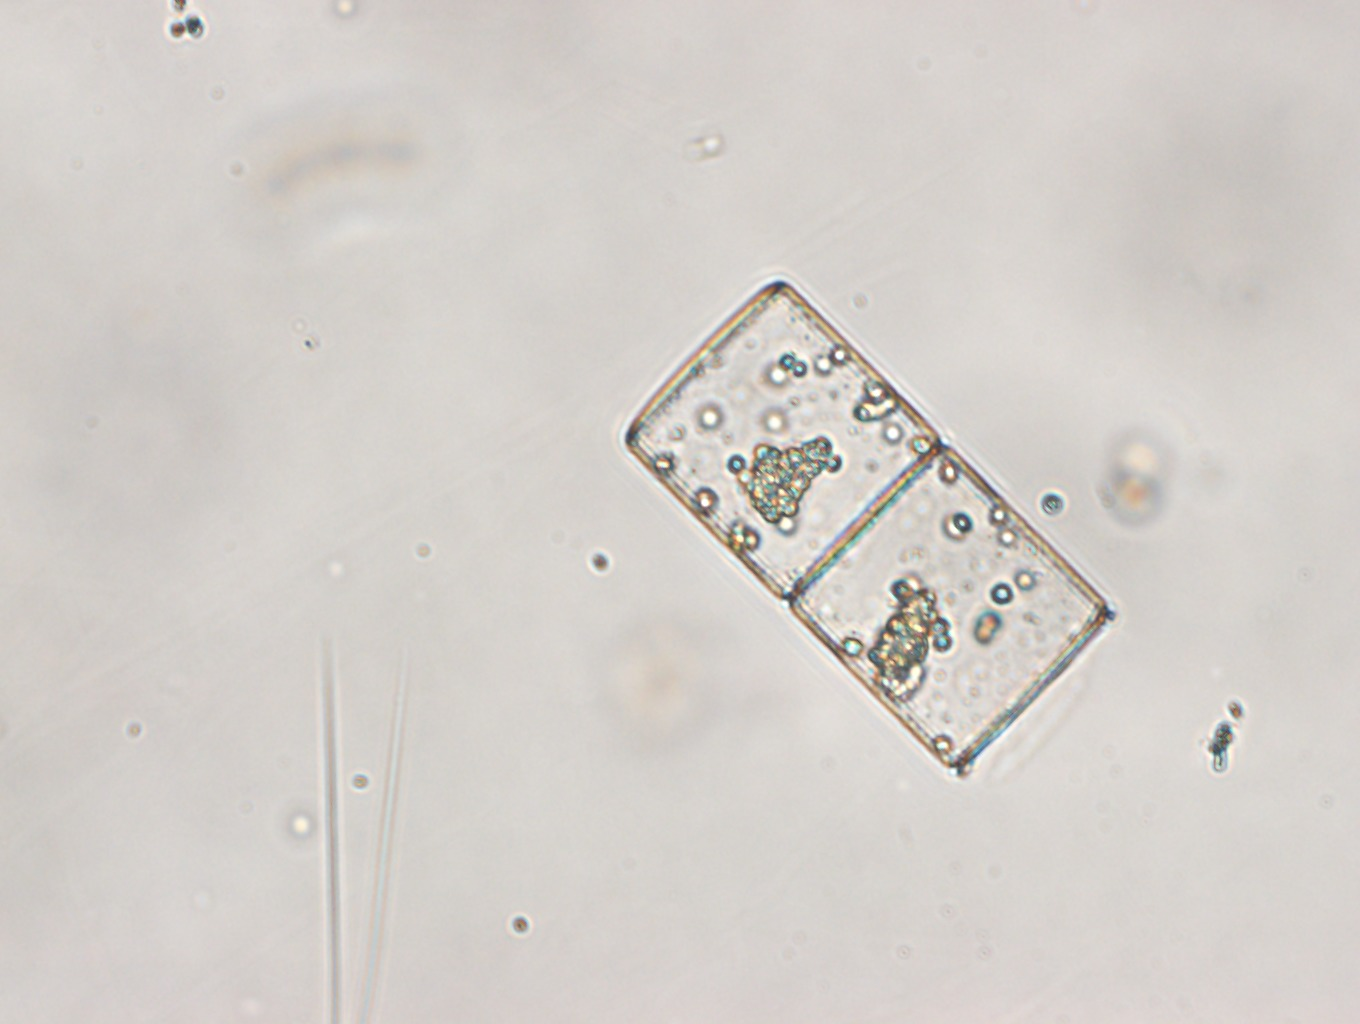guinardia flaccida: (622, 278, 1114, 778)
